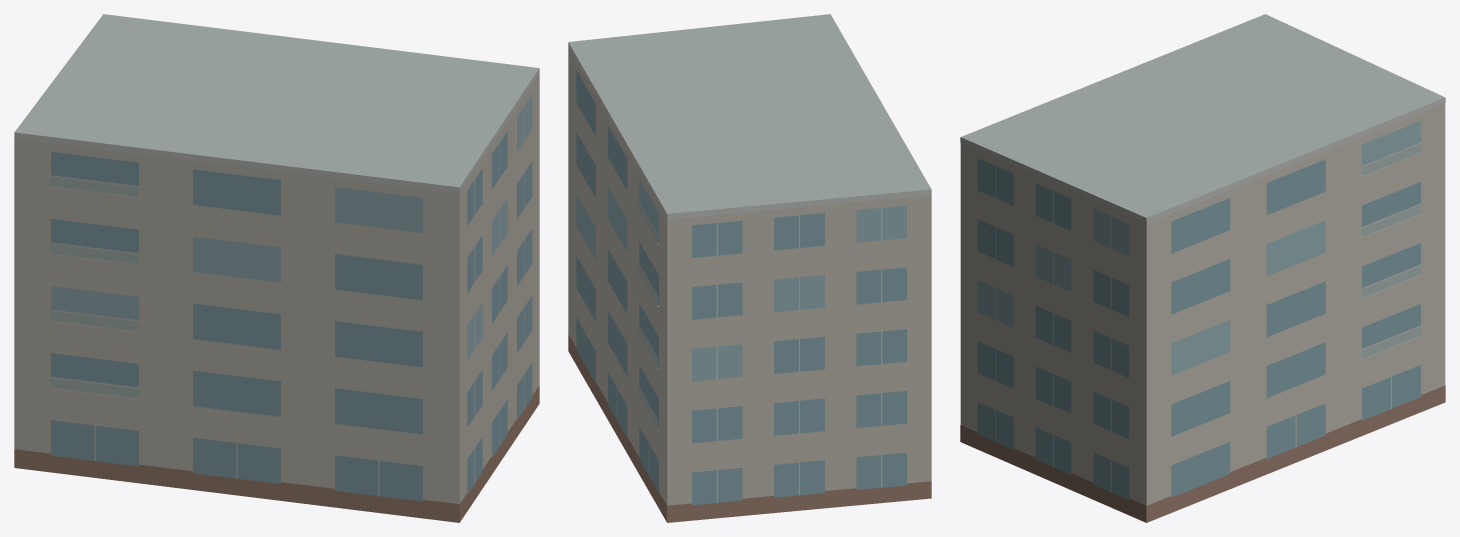
The model's file is survey-upis-33020996.glb.
The picture shows the model from 3 angles, left to right: view 1: azimuth 30°, elevation 25°; view 2: azimuth 150°, elevation 25°; view 3: azimuth 270°, elevation 25°; orthographic projection. The views are drawn at different scales.
Visible parts, largest first — view 1: survey-upis-33020996.tmp; view 2: survey-upis-33020996.tmp; view 3: survey-upis-33020996.tmp.
Part boxes in pixels (x1,y1,x2,y2): survey-upis-33020996.tmp: (14, 14, 539, 522); survey-upis-33020996.tmp: (568, 14, 931, 522); survey-upis-33020996.tmp: (960, 14, 1445, 522).
Size of the model in its own units: 18.66 by 13 by 18.74.
